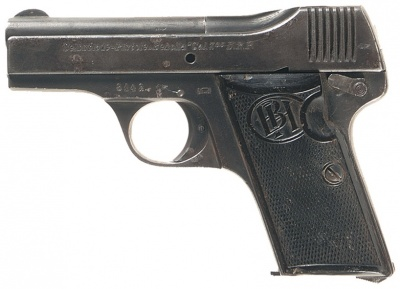gun: (3, 7, 399, 288)
